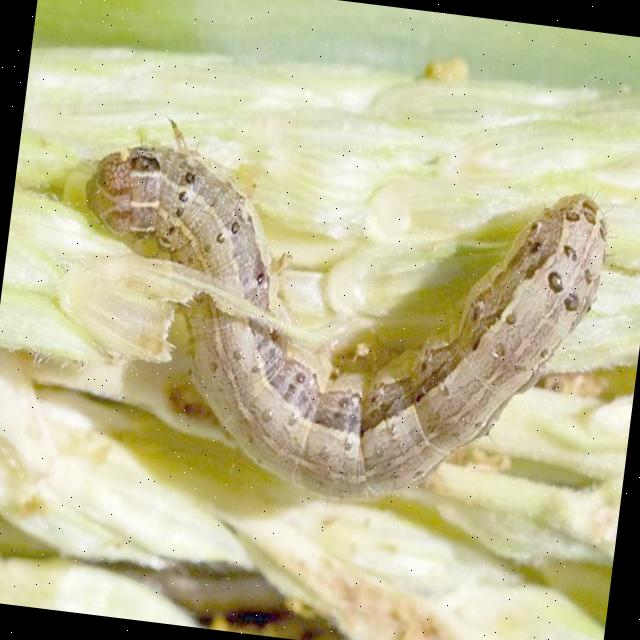worm: (52, 108, 621, 531)
